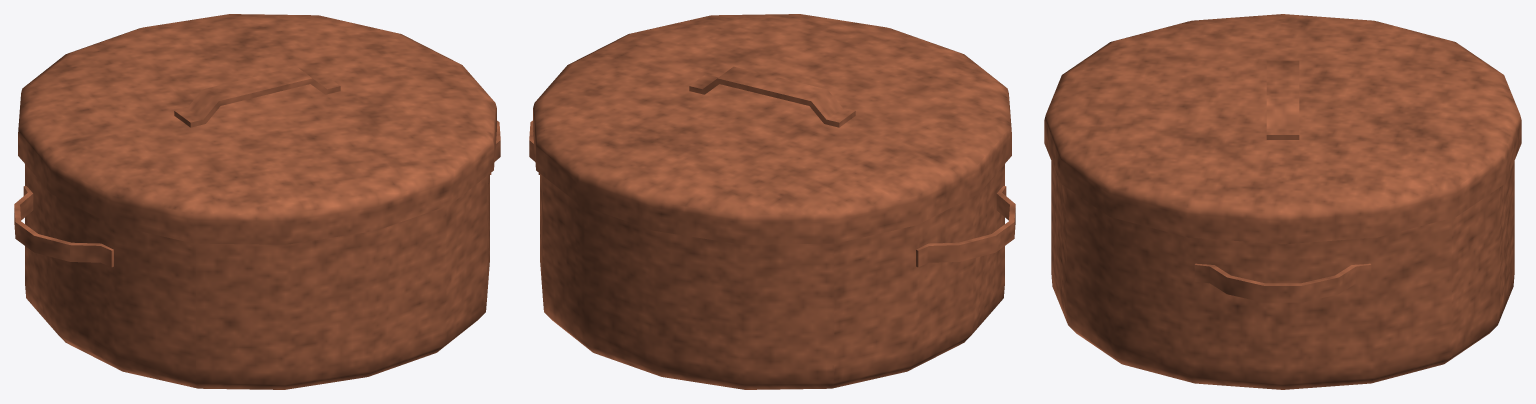
The model's file is Saucepan.fbx.
3 renders of one model, left to right at view 1: azimuth 30°, elevation 25°; view 2: azimuth 150°, elevation 25°; view 3: azimuth 270°, elevation 25°, orthographic.
Visible parts, largest first — view 1: Saucepan; view 2: Saucepan; view 3: Saucepan.
Boxes of the visible parts, left/top/right/bottom form: Saucepan: left=14, top=14, right=500, bottom=389; Saucepan: left=529, top=14, right=1015, bottom=389; Saucepan: left=1044, top=14, right=1521, bottom=389.
Size of the model in its own units: 20.76 by 10.68 by 23.43.
1 material, 1 textured.
